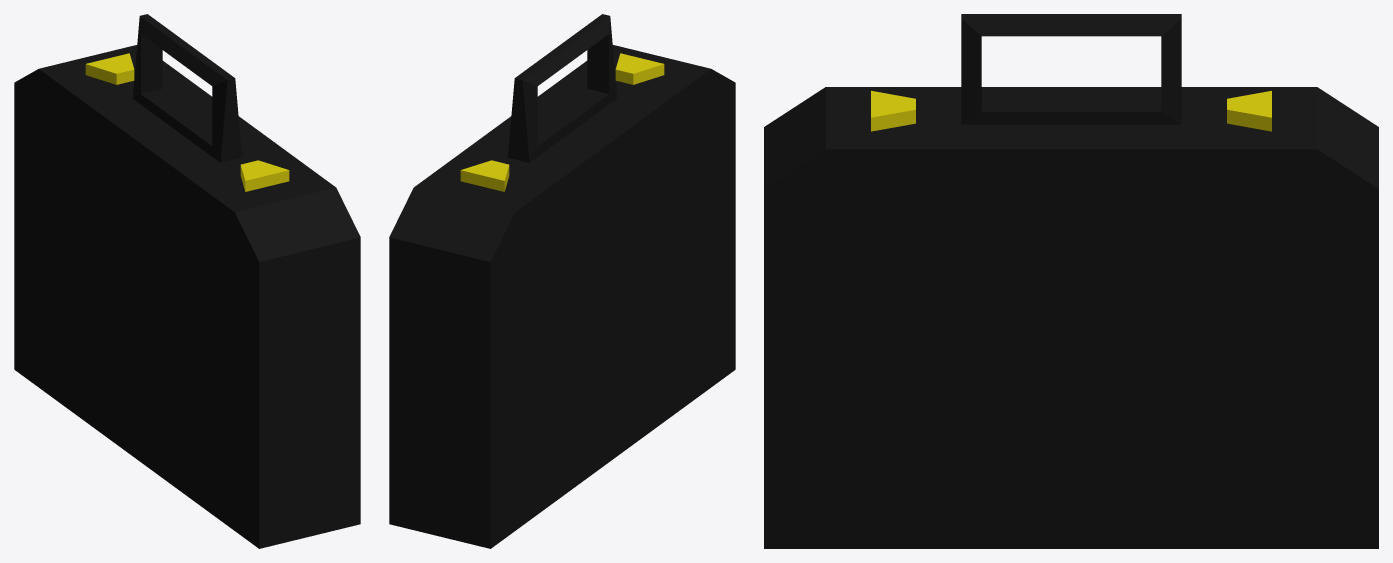
The model's file is BusinessMan_Suitcase.fbx.
3 views of the same model, side by side, from view 1: azimuth 30°, elevation 25°; view 2: azimuth 150°, elevation 25°; view 3: azimuth 270°, elevation 25° (orthographic). The views are drawn at different scales.
Visible parts, largest first — view 1: BusinessMan_Suitcase; view 2: BusinessMan_Suitcase; view 3: BusinessMan_Suitcase.
Boxes of the visible parts, left/top/right/bottom form: BusinessMan_Suitcase: left=14, top=14, right=360, bottom=548; BusinessMan_Suitcase: left=389, top=14, right=735, bottom=548; BusinessMan_Suitcase: left=764, top=14, right=1378, bottom=548.
Size of the model in its own units: 10.14 by 38.18 by 42.42.
